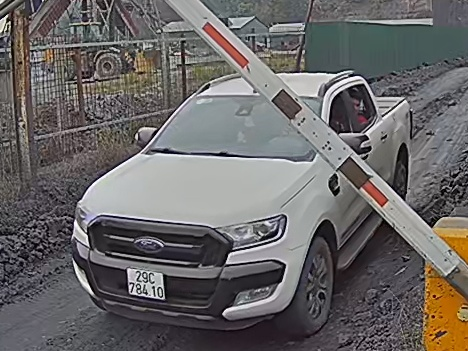vehicle plate: (125, 265, 172, 305)
